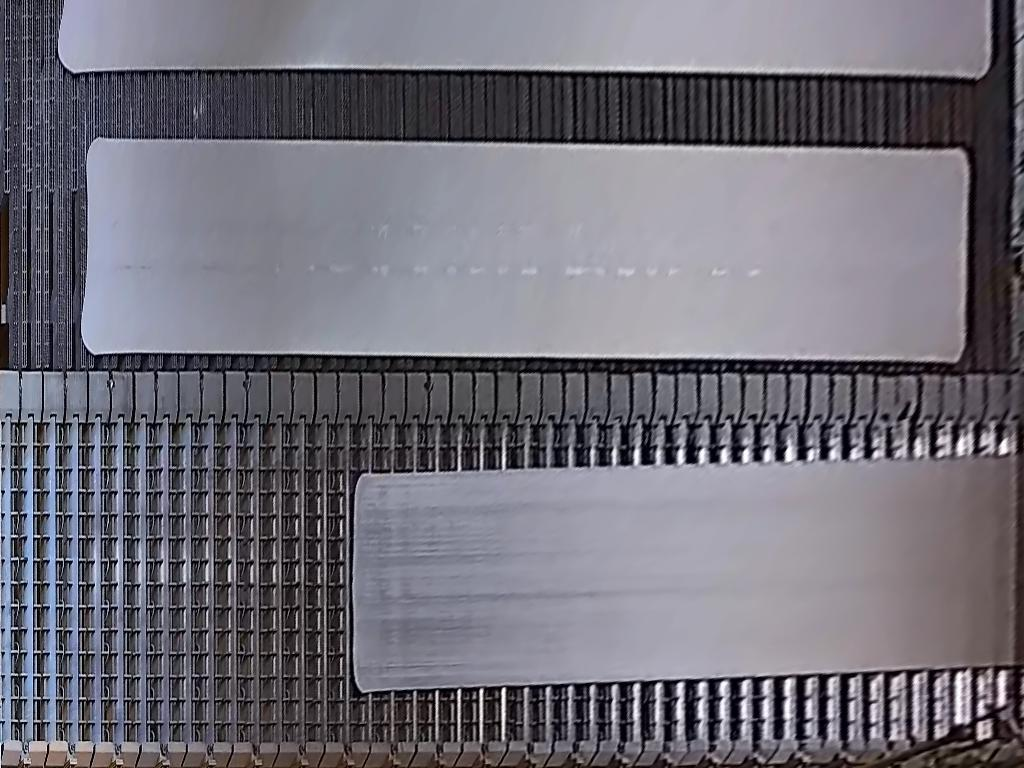steel: (79, 136, 976, 362), (352, 457, 1024, 694), (58, 1, 991, 80)
